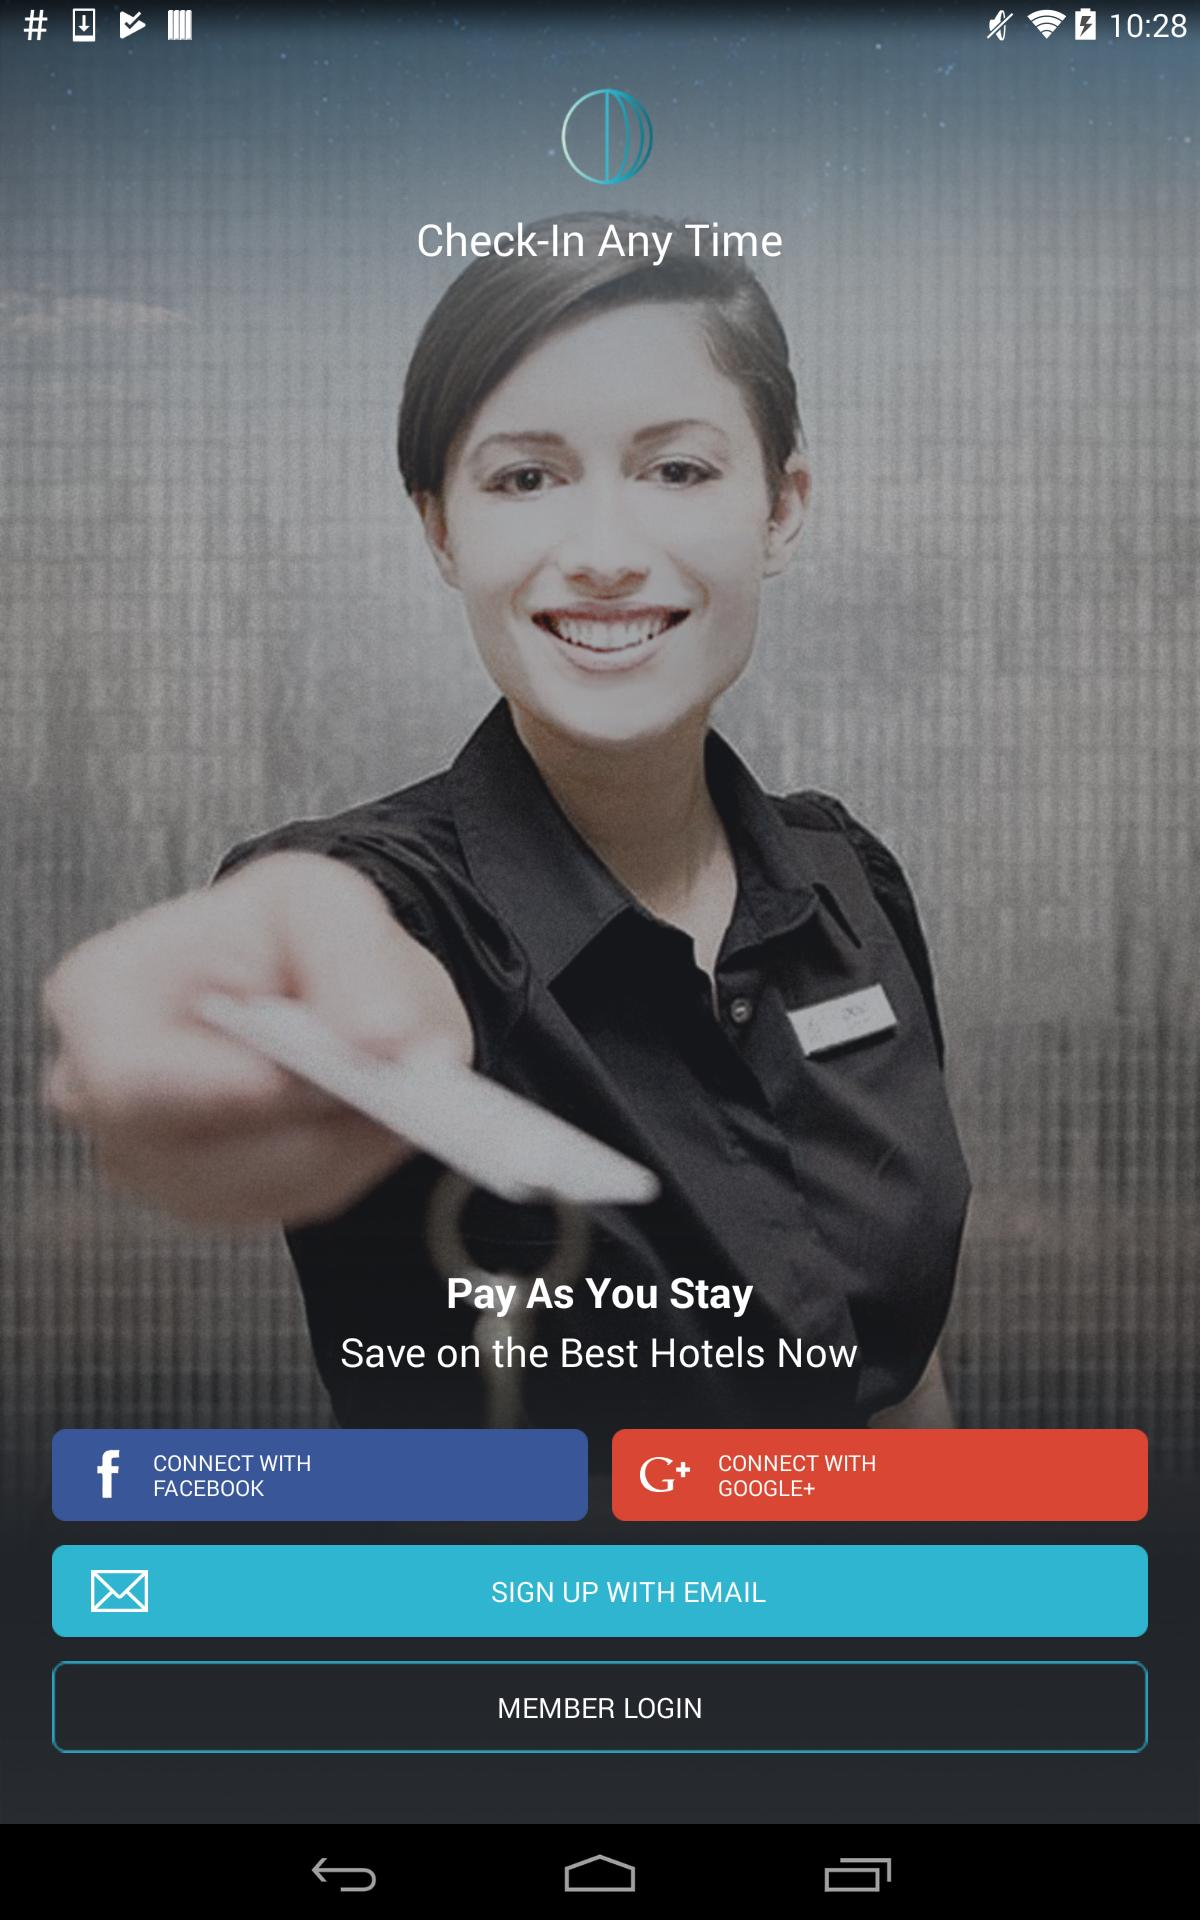android.widget.Button: (53, 1545, 1147, 1637), (53, 1662, 1147, 1753), (53, 1429, 588, 1521), (612, 1429, 1147, 1521)
android.widget.FrameLayout: (0, 0, 1200, 1825)
android.widget.ImageView: (0, 0, 1200, 1825), (499, 80, 700, 194)
android.widget.LinearLayout: (0, 0, 1200, 1825), (0, 1263, 1200, 1772), (0, 1417, 1200, 1772), (0, 1263, 1200, 1417), (53, 1429, 1147, 1521), (416, 0, 782, 268)
android.widget.RelativeLayout: (0, 0, 1200, 1825), (0, 1263, 1200, 1772)
android.widget.TextView: (340, 1324, 859, 1378), (416, 209, 782, 268), (447, 1263, 753, 1320)
